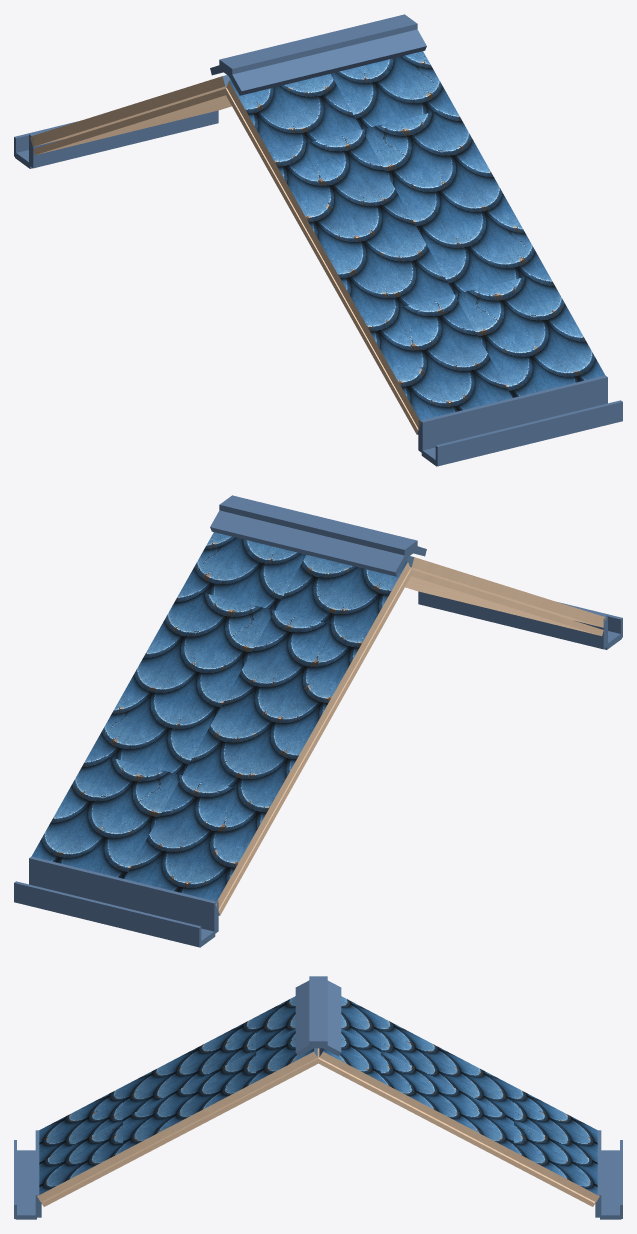
The model's file is Roof3_Section_1m.fbx.
The picture shows the model from 3 angles, top to bottom: view 1: azimuth 30°, elevation 25°; view 2: azimuth 150°, elevation 25°; view 3: azimuth 270°, elevation 25°; orthographic projection. The views are drawn at different scales.
Parts seen in each view (by area): view 1: Roof3_Section_1m; view 2: Roof3_Section_1m; view 3: Roof3_Section_1m.
Part boxes in pixels (x1,y1,x2,y2): Roof3_Section_1m: [14, 14, 622, 466]; Roof3_Section_1m: [14, 495, 622, 947]; Roof3_Section_1m: [14, 976, 622, 1219].
Bounding box in the file's own units: 1 × 1.28 × 3.96.
2 materials, 2 textured.
